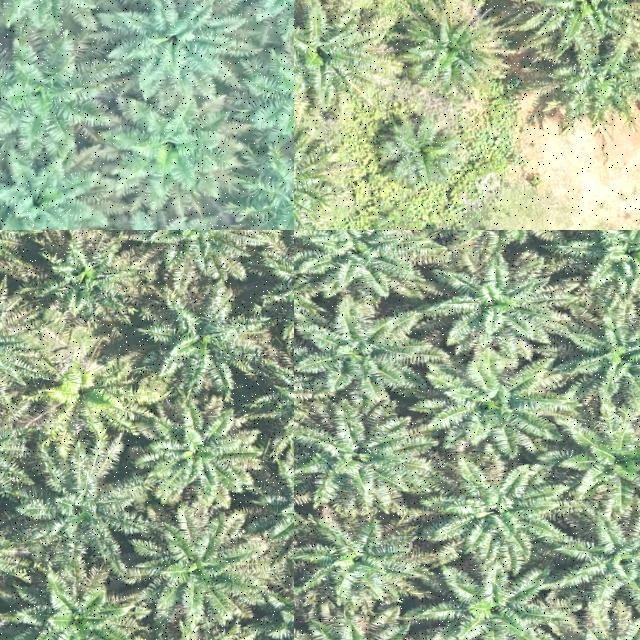Ganoderma: (42, 354, 120, 427)
